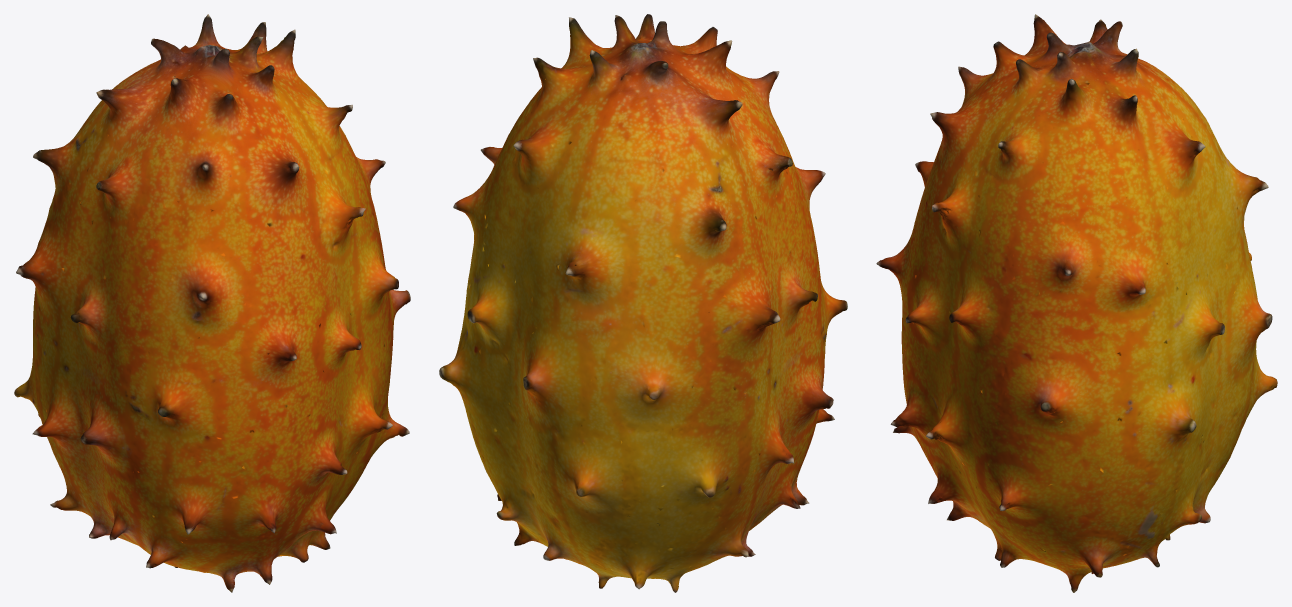
File: kiwano.fbx
The picture shows the model from 3 angles, left to right: view 1: azimuth 30°, elevation 25°; view 2: azimuth 150°, elevation 25°; view 3: azimuth 270°, elevation 25°; orthographic projection. The views are drawn at different scales.
Visible parts, largest first — view 1: Kiwano_100k; view 2: Kiwano_100k; view 3: Kiwano_100k.
Part boxes in pixels (box(x1,y1,x2,y2)): Kiwano_100k: box(14, 14, 410, 592); Kiwano_100k: box(439, 14, 847, 592); Kiwano_100k: box(876, 14, 1277, 592).
Size of the model in its own units: 182 by 264 by 185.
